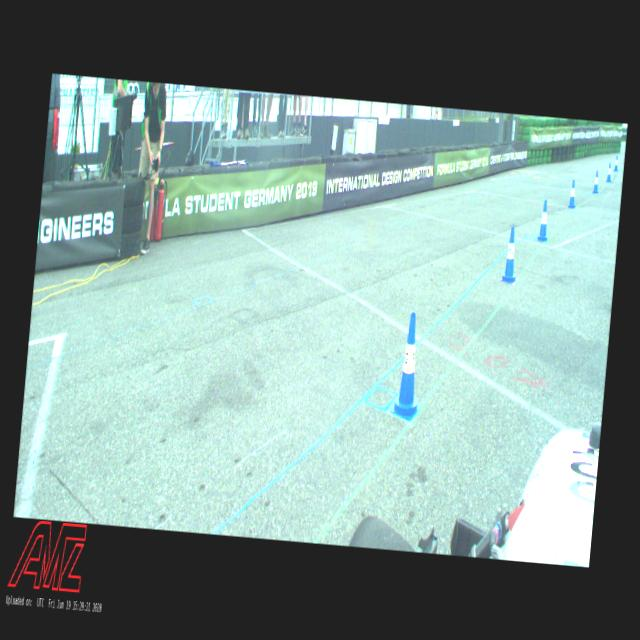blue_cone: (390, 312, 428, 421), (500, 225, 521, 282), (536, 198, 550, 241), (568, 178, 578, 208), (592, 170, 600, 193), (606, 162, 612, 181), (613, 154, 619, 172)
